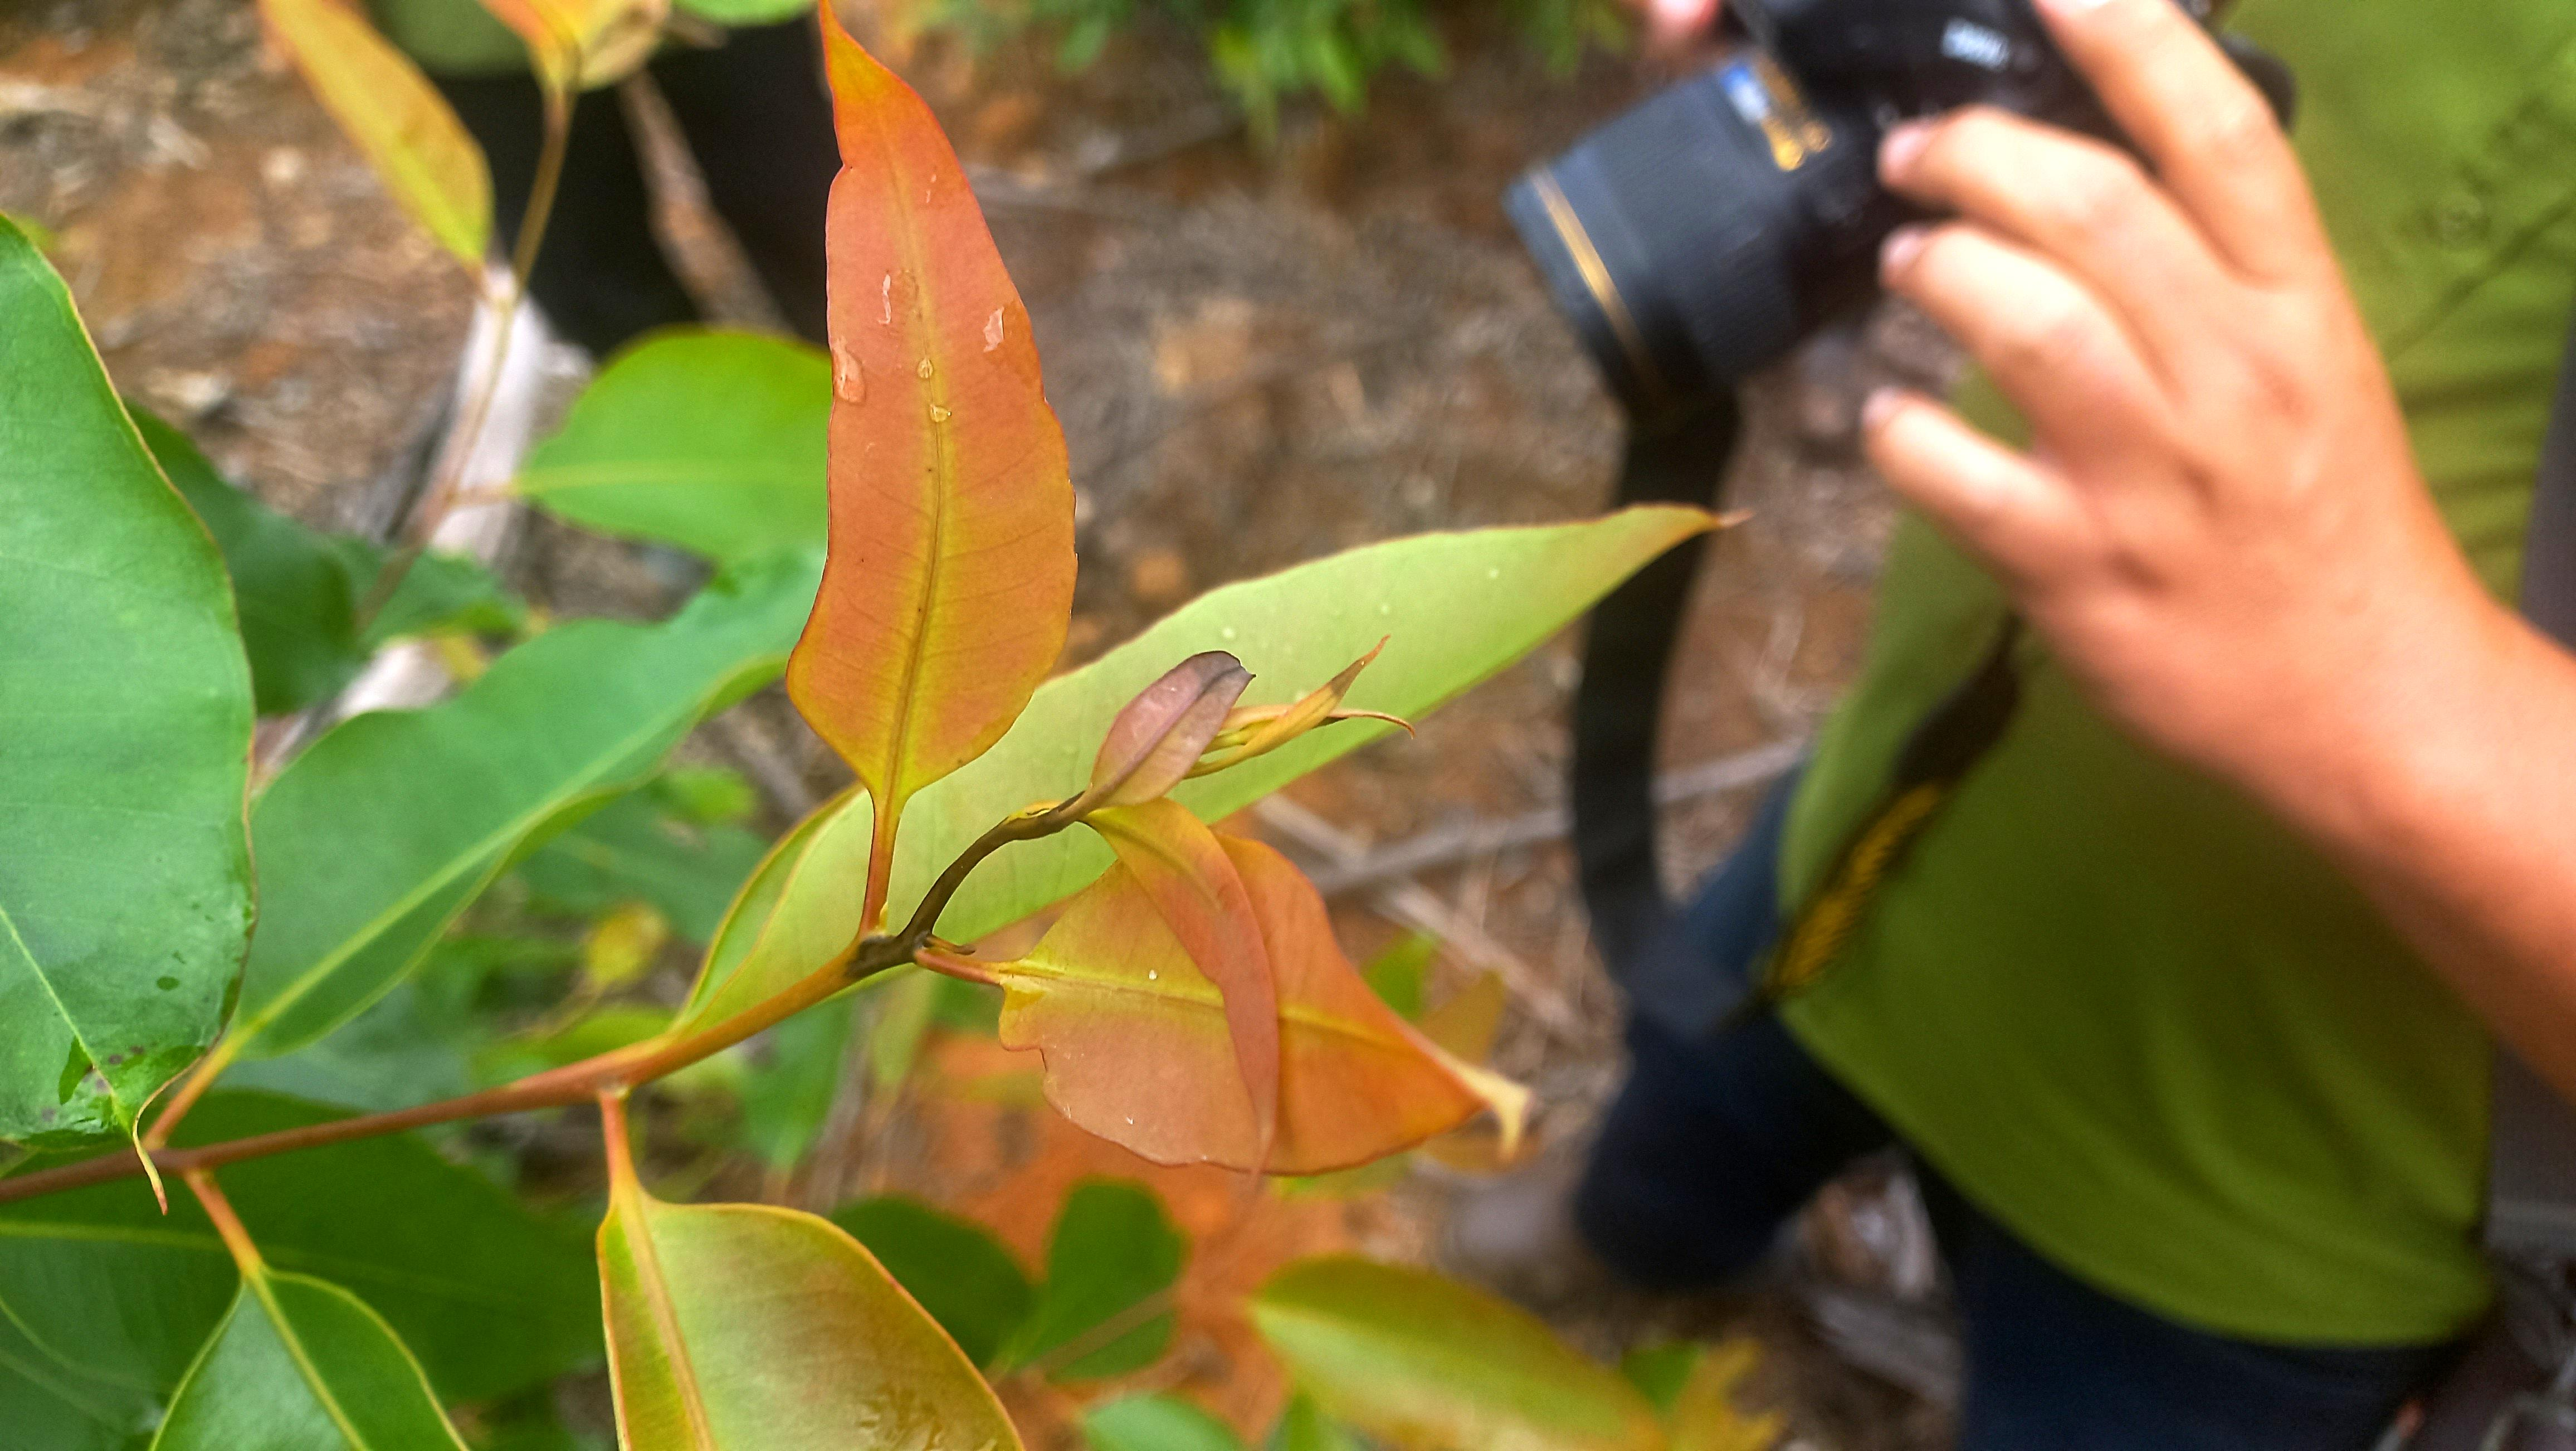Helopeltis-Withered Sprout: (851, 810, 1060, 973), (1189, 630, 1410, 772), (1069, 644, 1254, 809)
